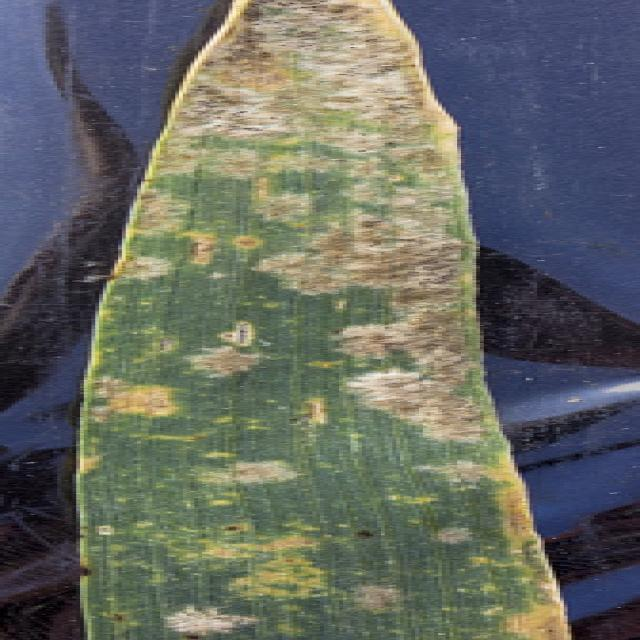wheat-powdery-mildew: (74, 0, 576, 640)
